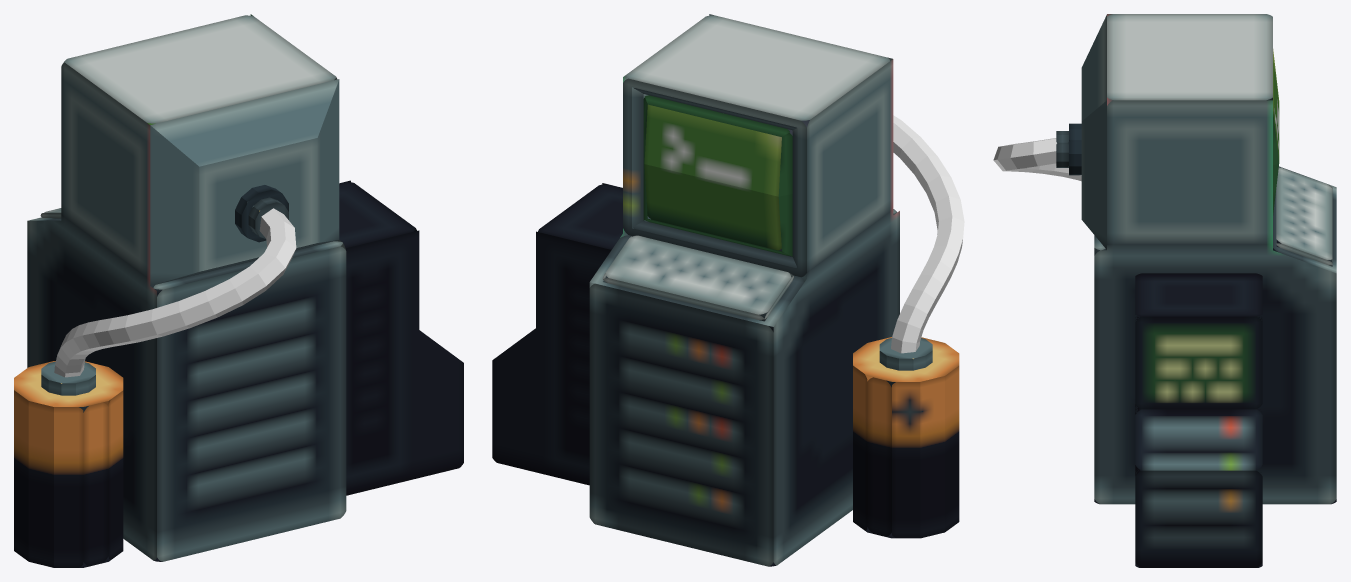
File: Terminal.fbx
3 renders of one model, left to right at view 1: azimuth 30°, elevation 25°; view 2: azimuth 150°, elevation 25°; view 3: azimuth 270°, elevation 25°, orthographic. The views are drawn at different scales.
Visible parts, largest first — view 1: main terminal, side servers, energy tank, BezierCurve, terminal tube, tank tube; view 2: main terminal, side servers, energy tank, BezierCurve, tank tube; view 3: main terminal, side servers, BezierCurve, terminal tube.
Part boxes in pixels (x1,y1,x2,y2): main terminal: [27, 14, 346, 561]; side servers: [339, 180, 463, 495]; energy tank: [14, 361, 123, 567]; BezierCurve: [54, 208, 296, 377]; terminal tube: [235, 185, 288, 242]; tank tube: [41, 361, 95, 412]; main terminal: [589, 14, 899, 566]; side servers: [492, 183, 622, 485]; energy tank: [853, 337, 959, 538]; BezierCurve: [891, 115, 964, 353]; tank tube: [879, 338, 932, 387]; main terminal: [1081, 14, 1336, 504]; side servers: [1135, 273, 1262, 567]; BezierCurve: [993, 138, 1081, 181]; terminal tube: [1056, 123, 1081, 175].
Size of the model in its own units: 2.24 by 2.19 by 1.68.
